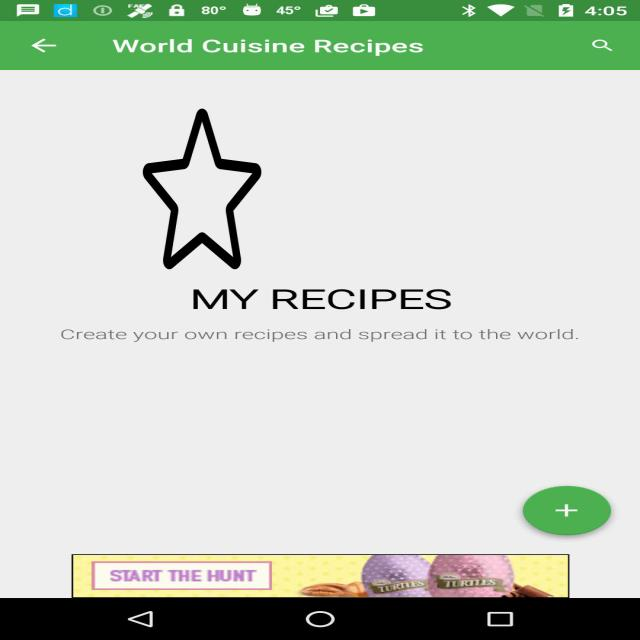forced continuity: (143, 105, 261, 273)
